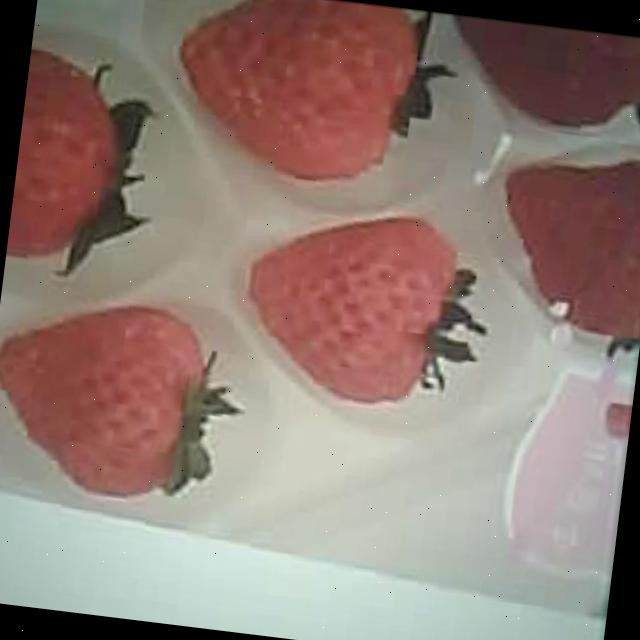strawberry: (172, 0, 427, 193), (0, 288, 219, 499), (237, 198, 453, 410)
